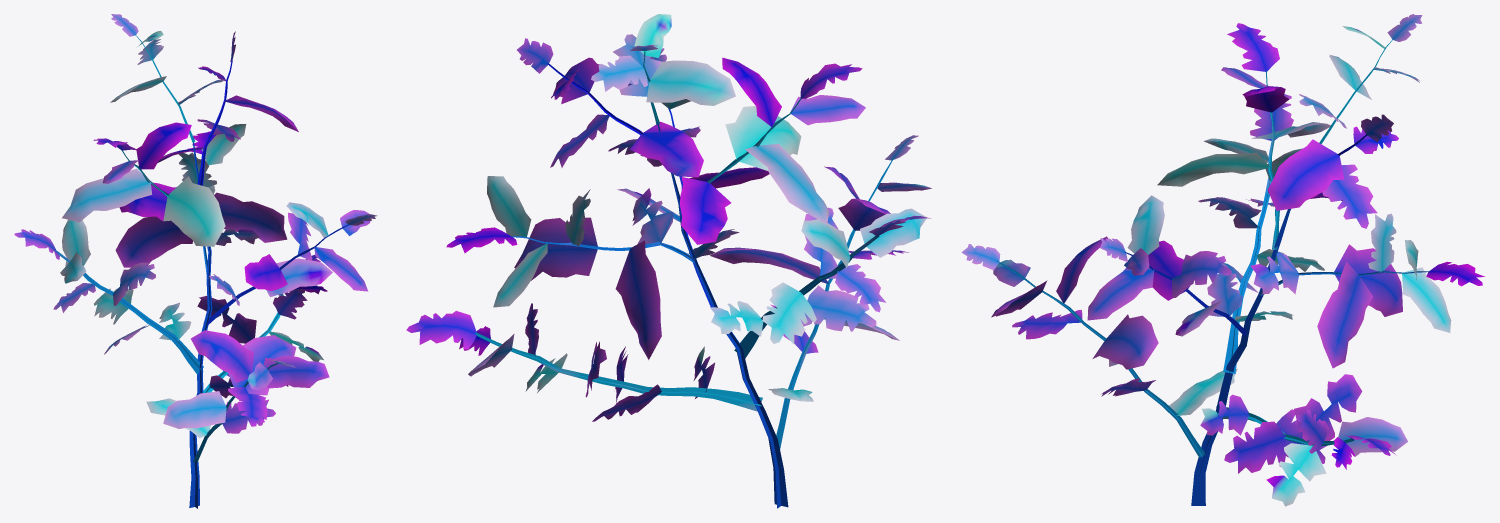
The model's file is Black_Locust_wdvhberja_Mid_wdvhberja_VarH_LOD1.fbx.
3 renders of one model, left to right at view 1: azimuth 30°, elevation 25°; view 2: azimuth 150°, elevation 25°; view 3: azimuth 270°, elevation 25°, orthographic. The views are drawn at different scales.
Parts seen in each view (by area): view 1: _c3bn_VarH_LOD2; view 2: _c3bn_VarH_LOD2; view 3: _c3bn_VarH_LOD2.
Part boxes in pixels (<box>): _c3bn_VarH_LOD2: <box>14,14,377,508</box>; _c3bn_VarH_LOD2: <box>406,14,931,508</box>; _c3bn_VarH_LOD2: <box>961,14,1484,506</box>.
Bounding box in the file's own units: 91.62 × 104 × 99.03.
